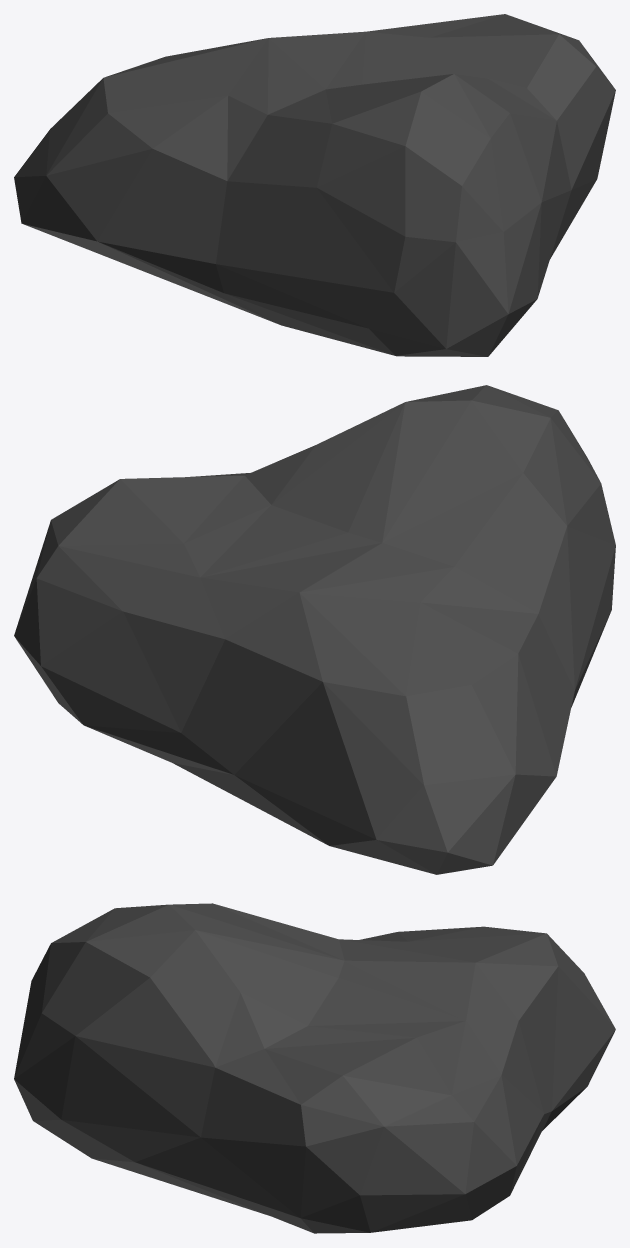
Rendered from 2020-09-08 WorldObjects.fbx_Rock1.fbx.
3 views of the same model, one above another, from view 1: azimuth 30°, elevation 25°; view 2: azimuth 150°, elevation 25°; view 3: azimuth 270°, elevation 25° (orthographic). The views are drawn at different scales.
Parts seen in each view (by area): view 1: Rock 1; view 2: Rock 1; view 3: Rock 1.
Boxes of the visible parts, box(x1,y1,x2,y2) form: Rock 1: box(14, 14, 615, 356); Rock 1: box(14, 385, 615, 874); Rock 1: box(14, 903, 615, 1233).
Bounding box in the file's own units: 6.11 × 2.86 × 6.59.
